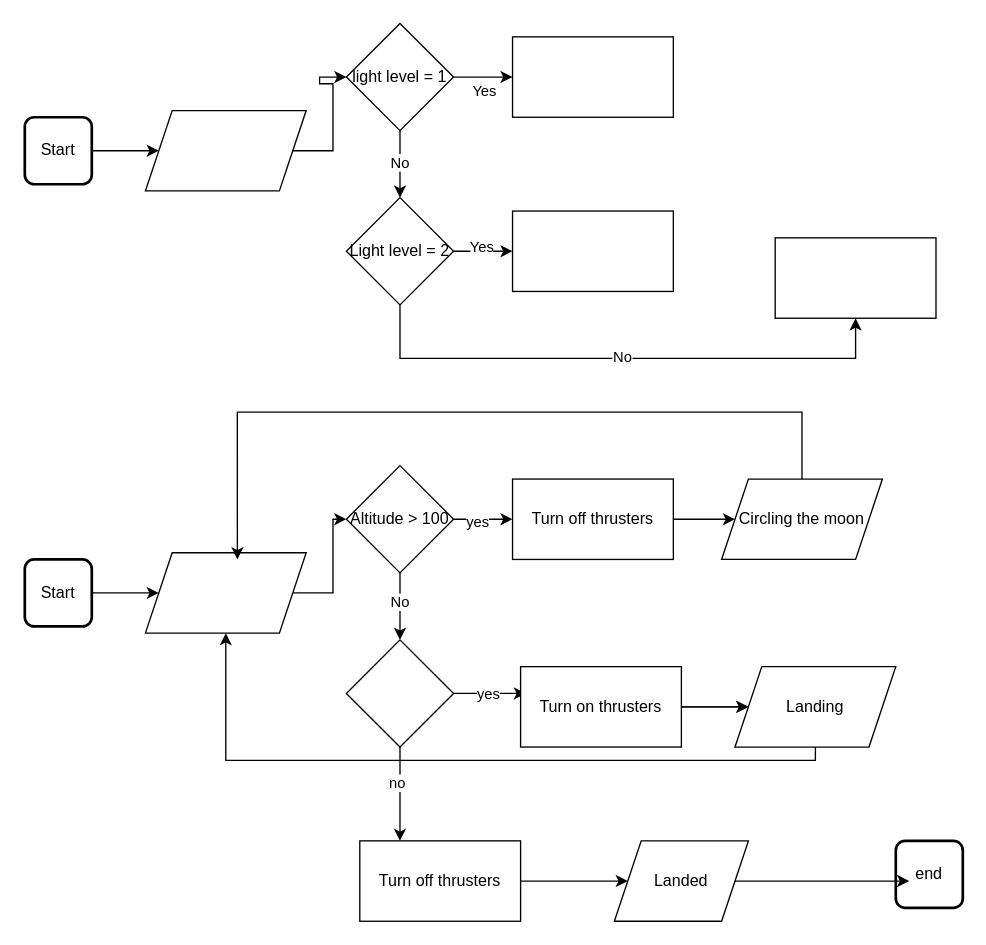
Some shapes in this 986 by 945 pixel diagram are drawn without their labels. The shapes that lost their labels are listed below. From the top down, each one's centre as x and y in pixels, then its label:
(592,76): Water = 5 * Diameter input
(225,150): Input diameter and light
(592,250): Water = 8 * Diameter input
(855,277): Water = 12 * Diameter input
(225,592): Altitude
(399,693): Altitude <=100 > 0
